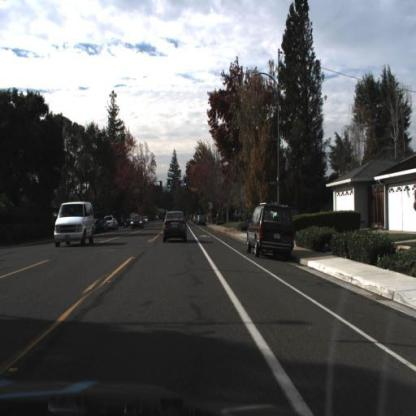car: (245, 204, 299, 258), (53, 201, 96, 250), (162, 208, 191, 245), (130, 213, 148, 231), (102, 213, 118, 233), (95, 220, 109, 236), (196, 212, 208, 228)
trafficLight-Green: (167, 179, 173, 193), (184, 177, 189, 191), (168, 179, 172, 190), (184, 179, 188, 189)
